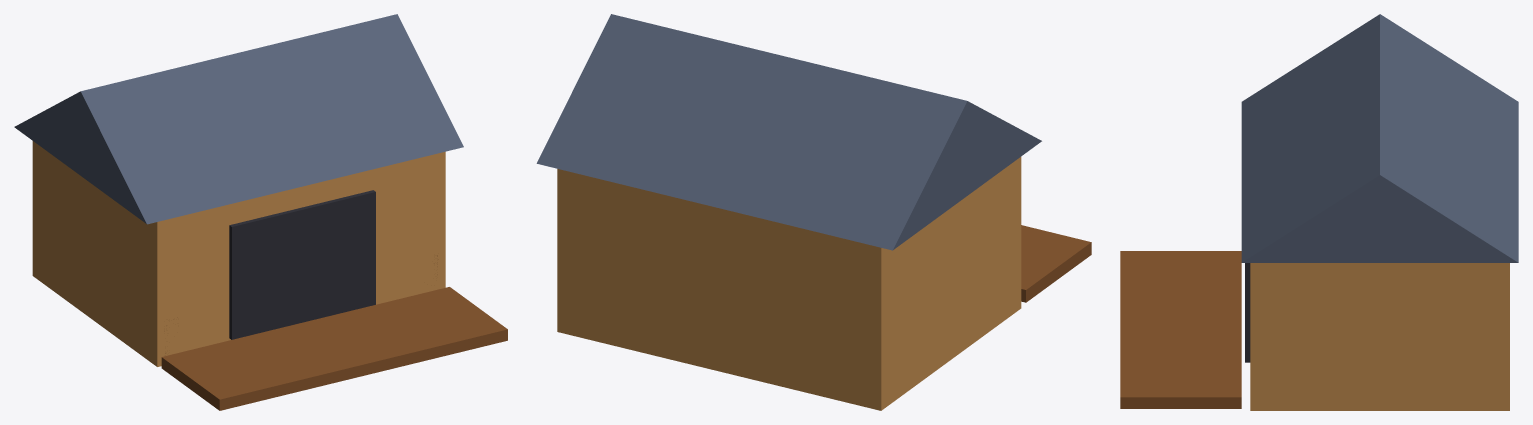
Rendered from town_boathouse.glb.
3 views of the same model, side by side, from view 1: azimuth 30°, elevation 25°; view 2: azimuth 150°, elevation 25°; view 3: azimuth 270°, elevation 25° (orthographic). The views are drawn at different scales.
Visible parts, largest first — view 1: boathouse; view 2: boathouse; view 3: boathouse.
Part boxes in pixels (<box>): boathouse: <box>14,14,507,410</box>; boathouse: <box>536,14,1091,410</box>; boathouse: <box>1120,14,1518,410</box>.
Size of the model in its own units: 4.4 by 3.1 by 4.6.
